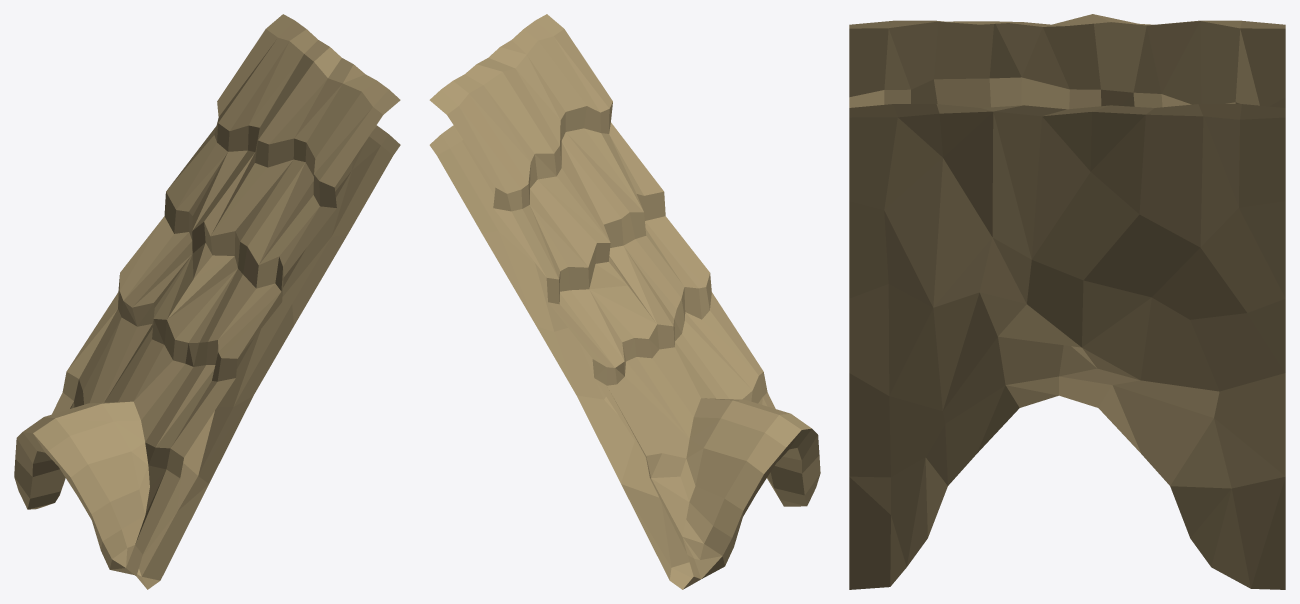
File: rpgpp_ag_roof_02c_6x5x3_half.fbx
3 renders of one model, left to right at view 1: azimuth 30°, elevation 25°; view 2: azimuth 150°, elevation 25°; view 3: azimuth 270°, elevation 25°, orthographic. The views are drawn at different scales.
Parts seen in each view (by area): view 1: rpgpp_ag_roof_02c_6x5x3_half; view 2: rpgpp_ag_roof_02c_6x5x3_half; view 3: rpgpp_ag_roof_02c_6x5x3_half.
Part boxes in pixels (x1,y1,x2,y2): rpgpp_ag_roof_02c_6x5x3_half: (14, 14, 400, 589); rpgpp_ag_roof_02c_6x5x3_half: (429, 14, 820, 589); rpgpp_ag_roof_02c_6x5x3_half: (849, 14, 1285, 589).
Bounding box in the file's own units: 4.58 × 6.05 × 3.
